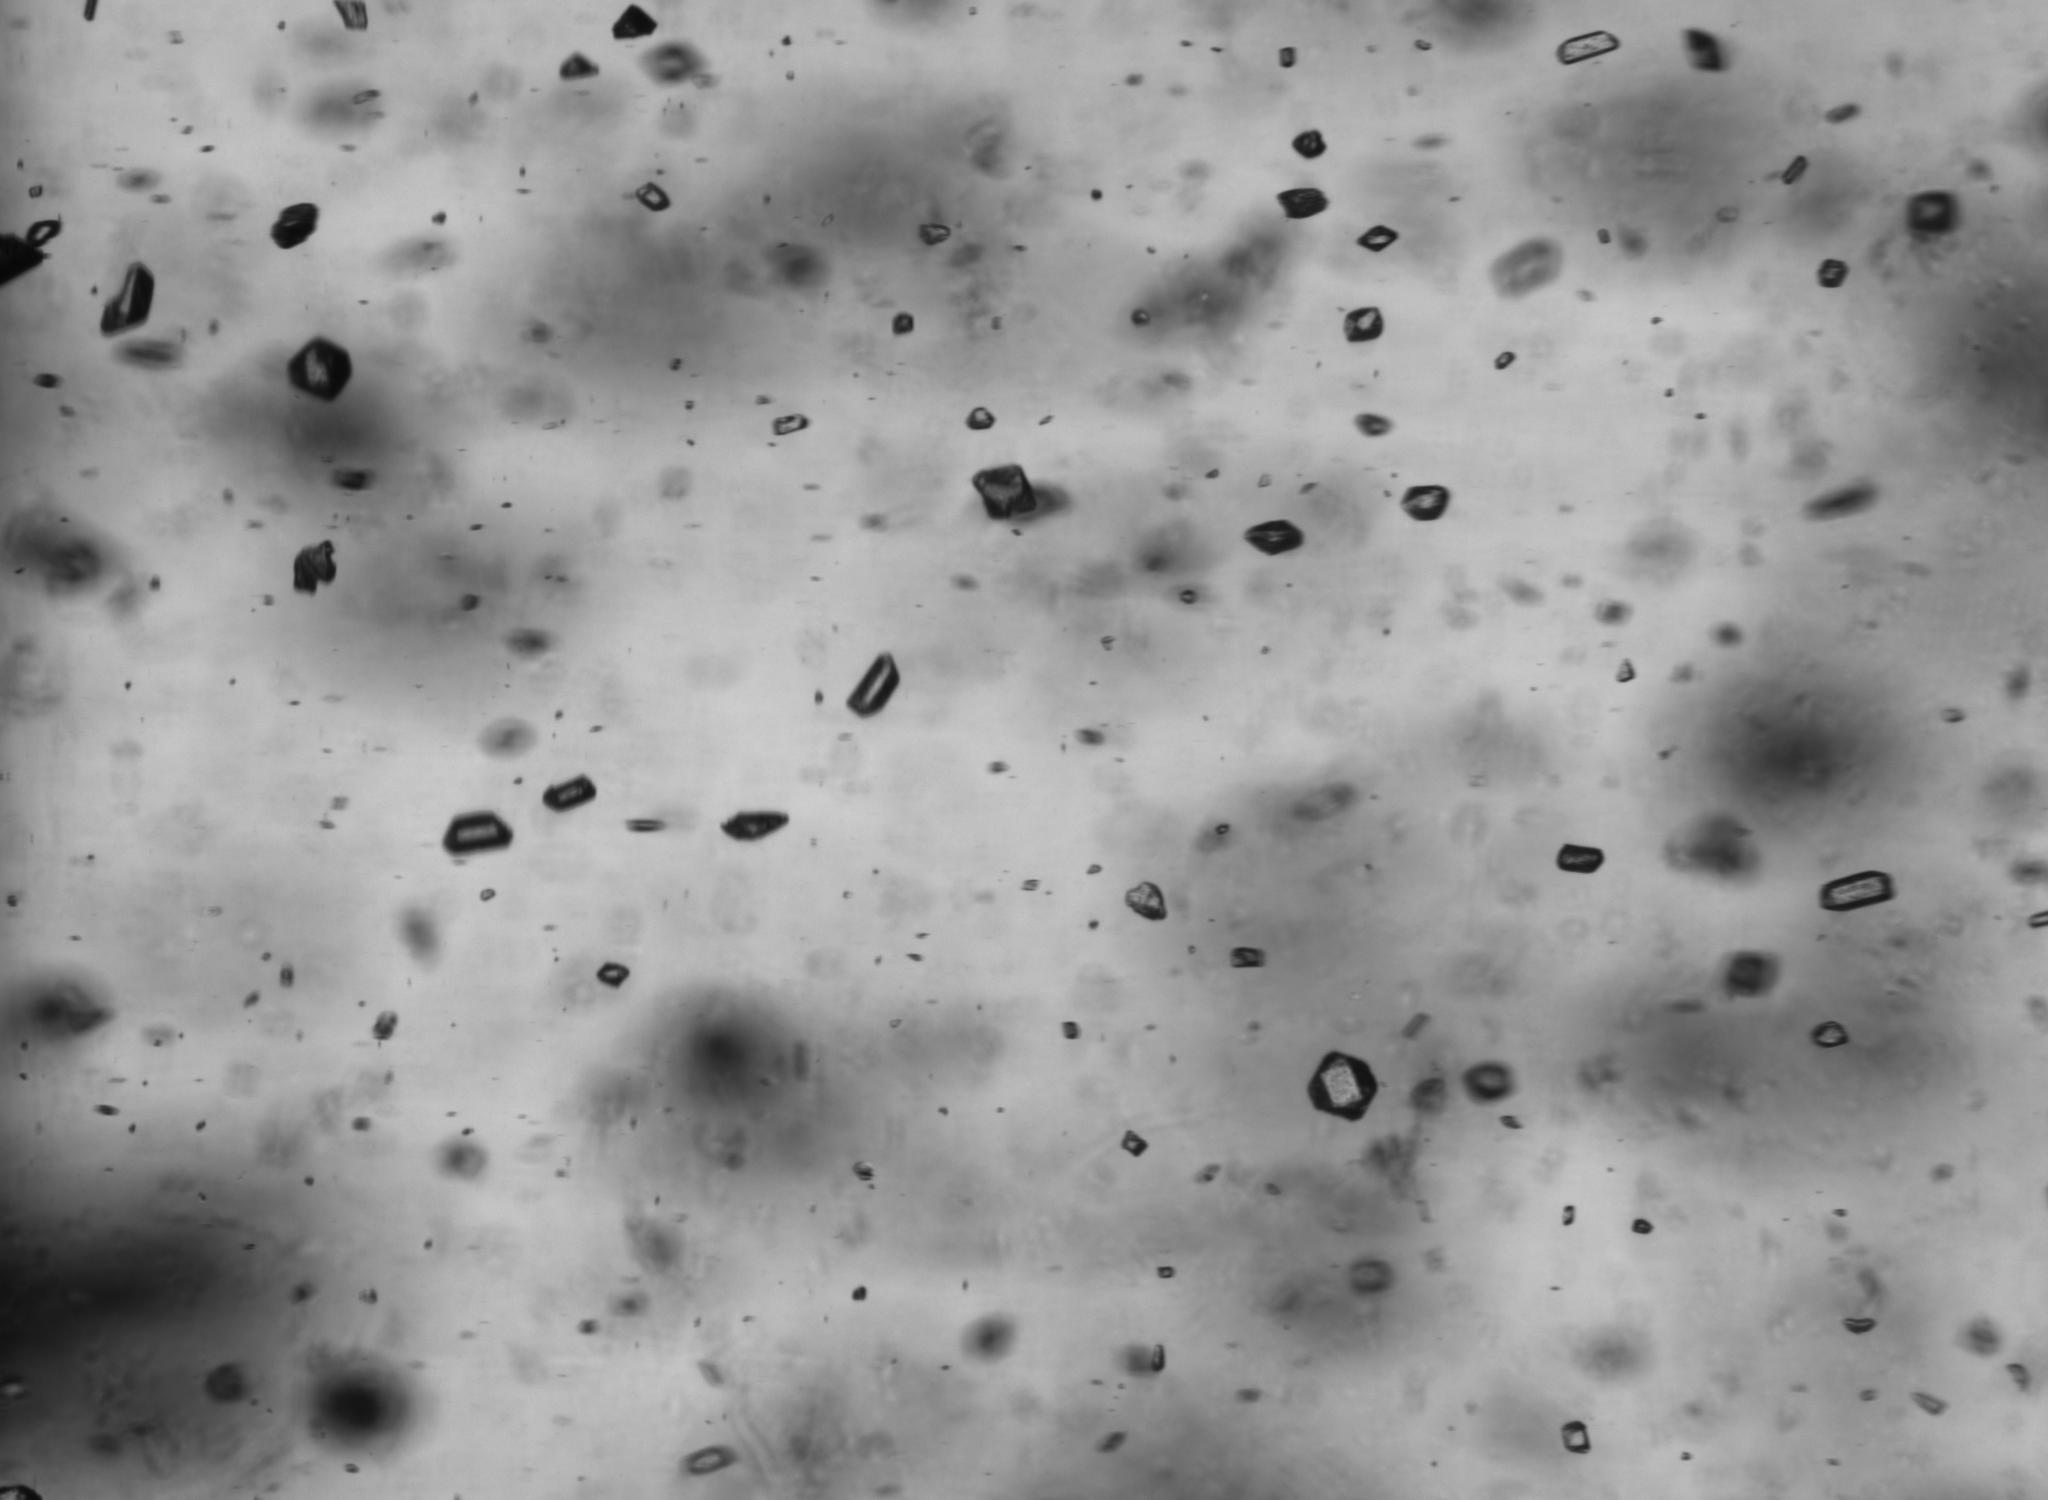crystal: (1307, 1051, 1377, 1121), (286, 337, 353, 401), (100, 262, 154, 336), (972, 464, 1037, 520), (846, 652, 900, 717), (1819, 870, 1895, 911), (444, 811, 512, 856), (0, 232, 46, 285), (293, 539, 337, 593), (270, 202, 318, 248), (720, 810, 789, 841), (1557, 30, 1620, 64), (1243, 520, 1304, 555), (1461, 1061, 1514, 1101), (542, 775, 596, 811), (1401, 485, 1450, 522), (682, 1444, 738, 1476), (1124, 881, 1167, 921), (1277, 188, 1328, 220), (612, 5, 657, 40), (1555, 843, 1604, 873), (1344, 305, 1383, 342), (22, 218, 60, 250), (633, 181, 671, 212), (1809, 1020, 1849, 1048), (332, 0, 369, 30), (1358, 224, 1398, 251), (1560, 1420, 1592, 1454), (1291, 129, 1326, 159), (1816, 258, 1849, 288), (1779, 154, 1809, 186), (595, 961, 630, 988), (771, 412, 809, 436), (917, 221, 951, 247), (1231, 945, 1266, 969), (372, 1010, 398, 1042), (1119, 1129, 1148, 1156), (967, 407, 995, 429), (1843, 1317, 1876, 1335), (890, 312, 914, 336), (1493, 350, 1515, 371), (1616, 659, 1635, 682), (1150, 1344, 1166, 1373), (1061, 1021, 1081, 1040), (852, 1163, 873, 1182), (1631, 1217, 1654, 1234), (1278, 46, 1296, 68), (1499, 1113, 1523, 1129), (1563, 1204, 1576, 1225), (1019, 878, 1040, 891), (852, 1285, 868, 1301), (1213, 822, 1231, 837), (1156, 1266, 1175, 1279), (479, 888, 496, 900), (27, 185, 45, 197), (431, 212, 447, 224), (1086, 864, 1102, 875), (1088, 918, 1099, 931)
